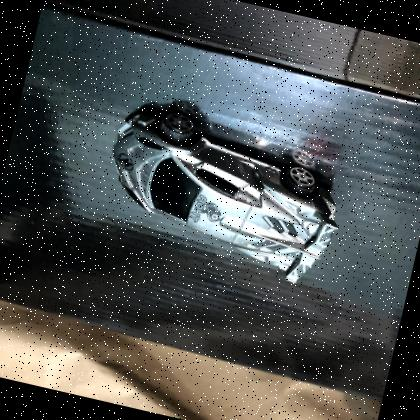Car: (111, 111, 338, 281)
